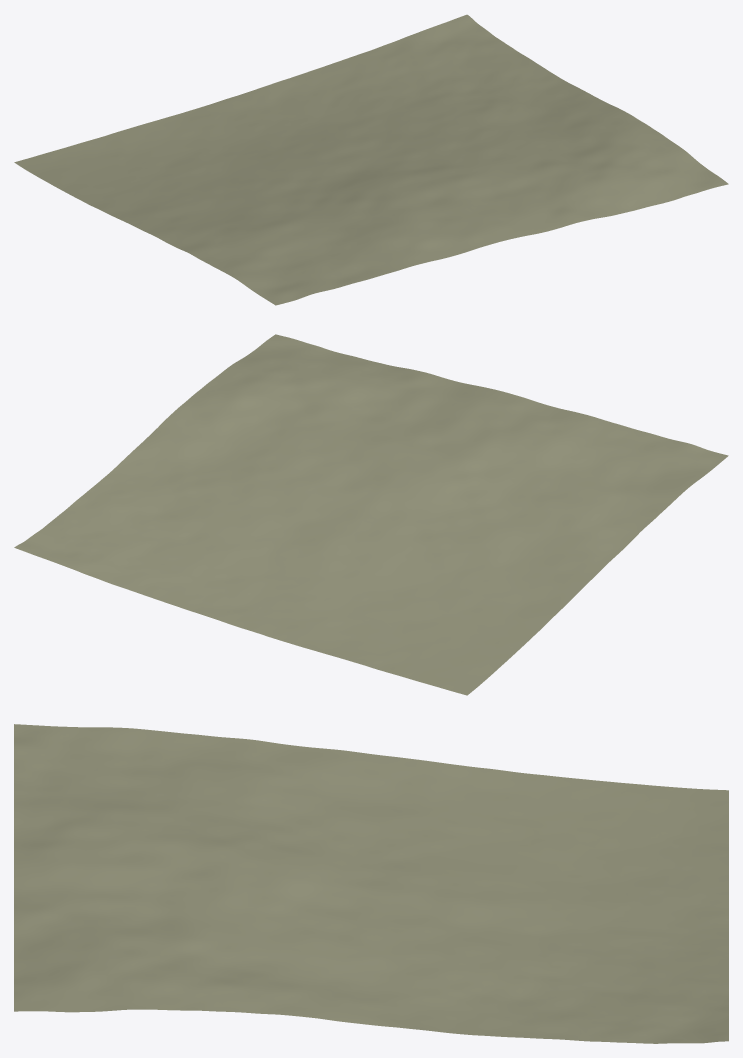
File: SM_VB_CityTerrain_8_6.fbx
The picture shows the model from 3 angles, top to bottom: view 1: azimuth 30°, elevation 25°; view 2: azimuth 150°, elevation 25°; view 3: azimuth 270°, elevation 25°; orthographic projection. The views are drawn at different scales.
Visible parts, largest first — view 1: SM_VB_CityTerrain_8_6; view 2: SM_VB_CityTerrain_8_6; view 3: SM_VB_CityTerrain_8_6.
Boxes of the visible parts, bbox=[...] form: SM_VB_CityTerrain_8_6: bbox=[14, 14, 728, 305]; SM_VB_CityTerrain_8_6: bbox=[14, 334, 728, 695]; SM_VB_CityTerrain_8_6: bbox=[14, 724, 728, 1043].
Size of the model in its own units: 600 by 77.75 by 600.
